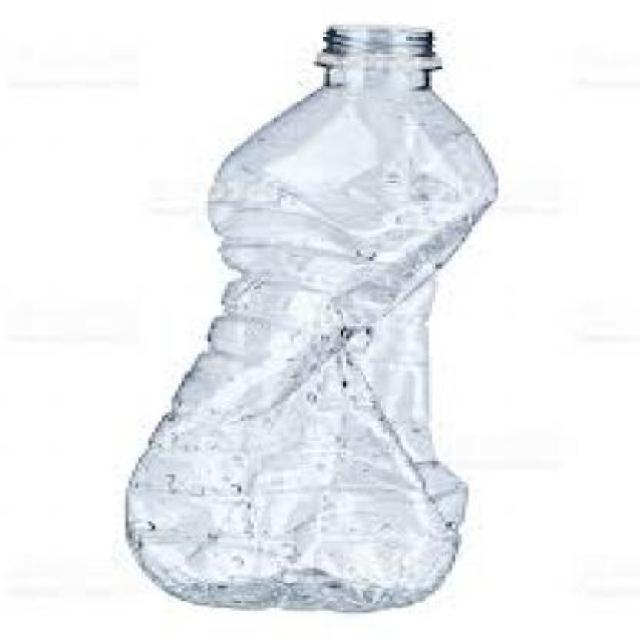PLASTIC: (129, 20, 505, 611)
